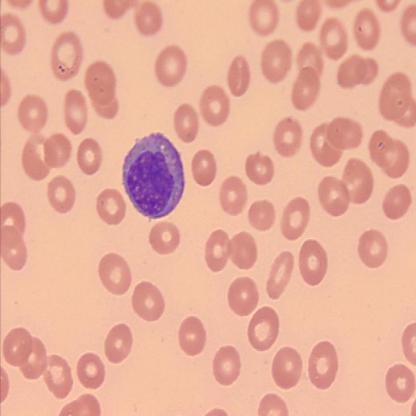Monocyte: (119, 130, 188, 223)
